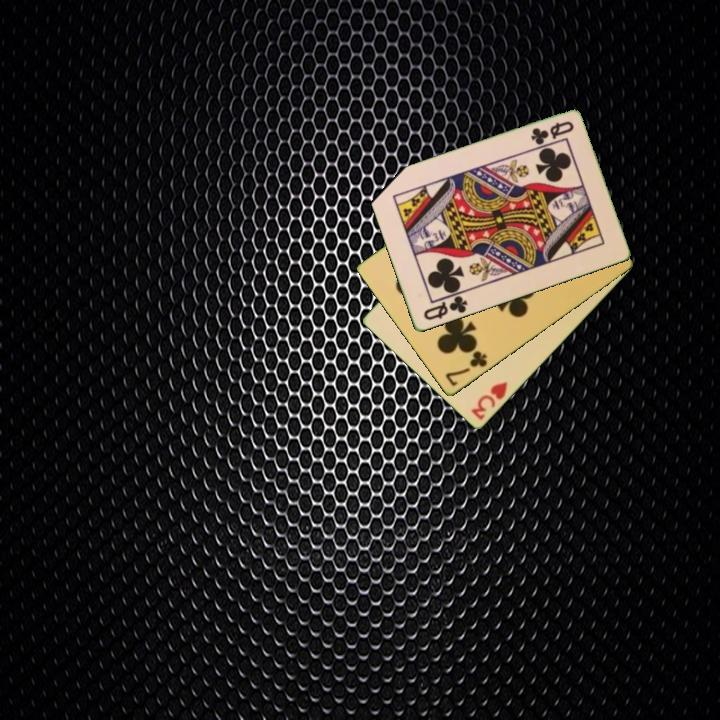3h: (467, 379, 511, 424)
7c: (441, 348, 490, 390)
Qc: (420, 289, 470, 324), (527, 118, 577, 148)
